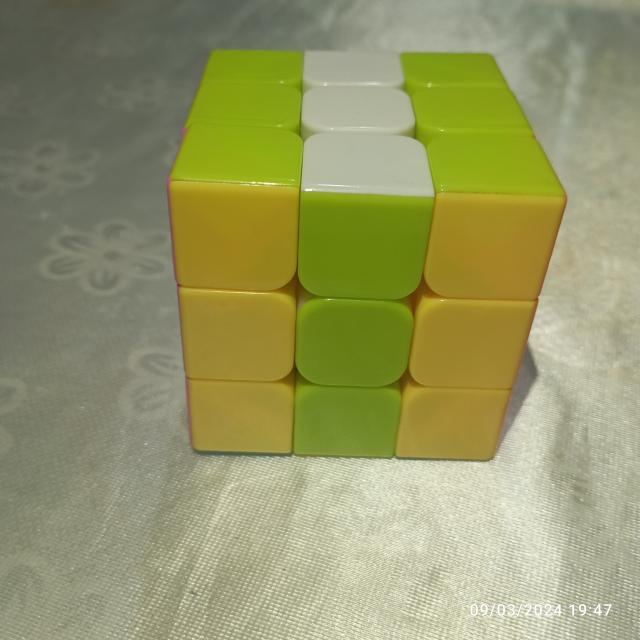Rub: (162, 45, 576, 465)
